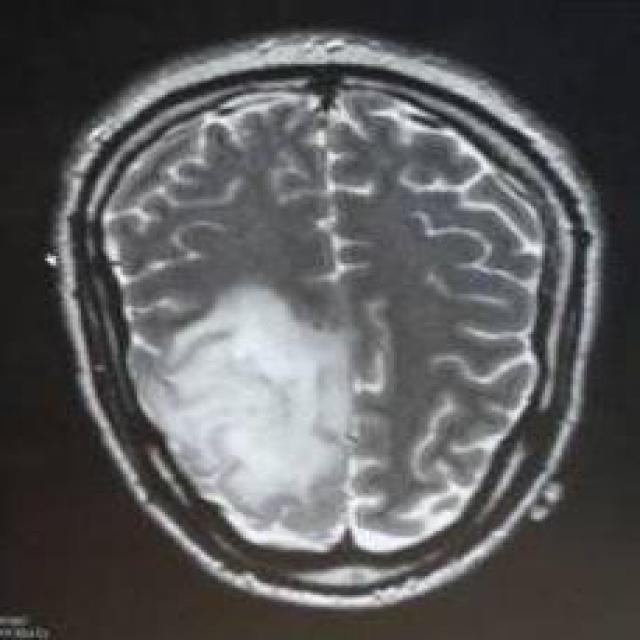Tumor-Cell: (152, 301, 379, 517)
